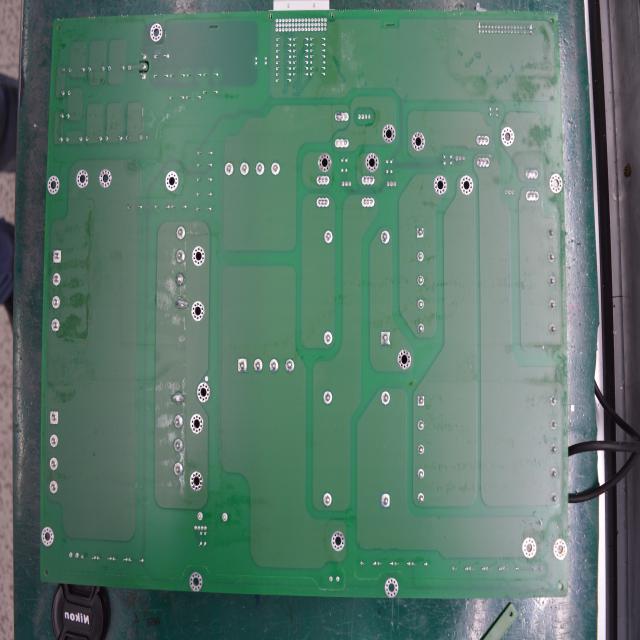slug: (172, 296, 188, 312), (171, 391, 186, 405)
